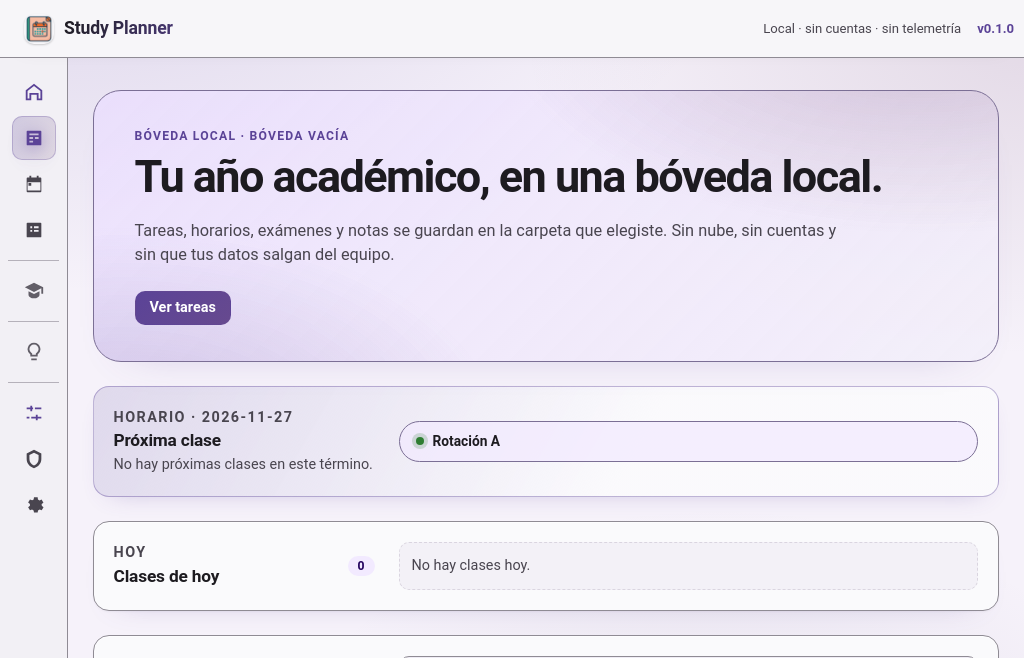
Scenario: App con IPC de Tauri › solo permite importar en una bóveda vacía
The width and height of the screenshot is (1024, 658).
What coordinates should you click on to do the following:
click the button named "Bóveda"
I would click on:
 (34, 459)
Its box is [12,437,56,481].
(page scrolled)
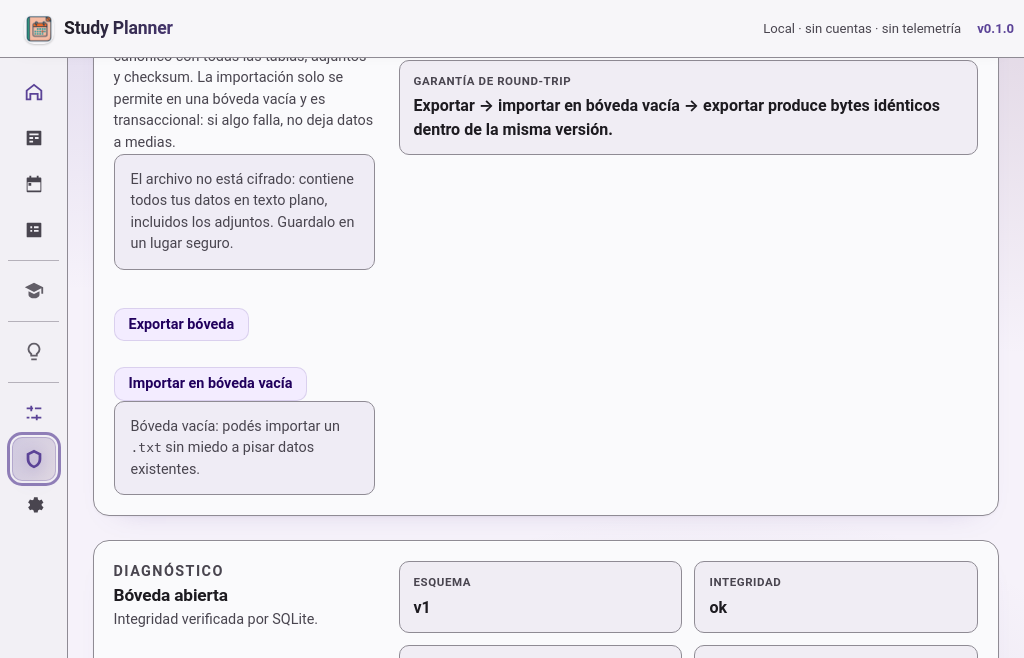
Result: the button "Importar en bóveda vacía" is enabled
What coordinates should you click on to do the following:
click the button "Importar en bóveda vacía"
I would click on:
 (211, 384)
Its box is [114,367,308,401].
(page scrolled)
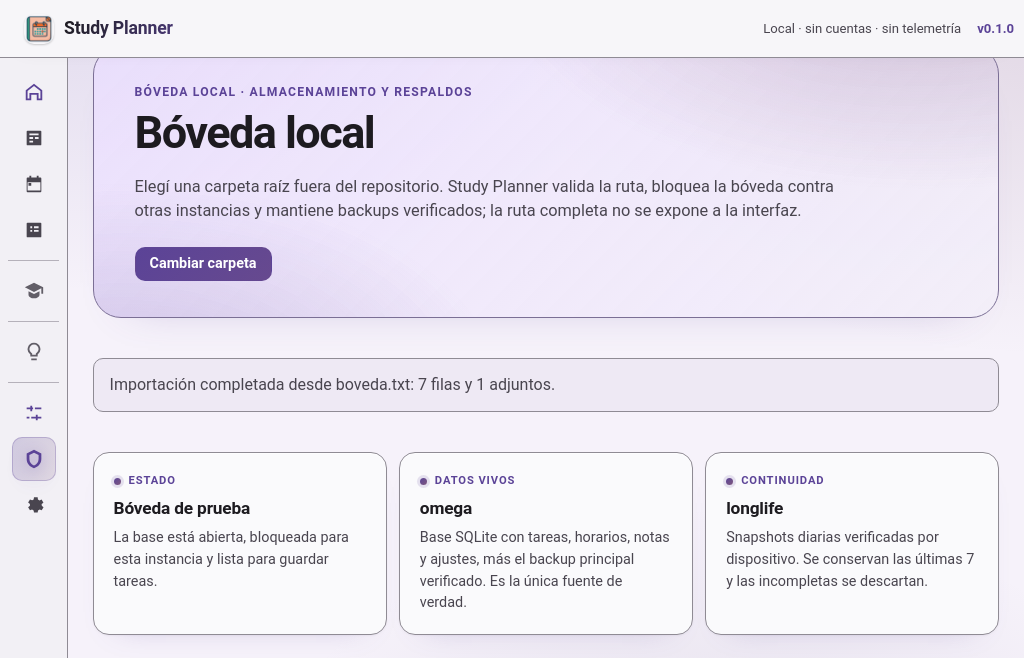
Result: the text "Importación completada desde boveda.txt: 7 filas y 1 adjuntos." is shown at [93,358,1000,412]
